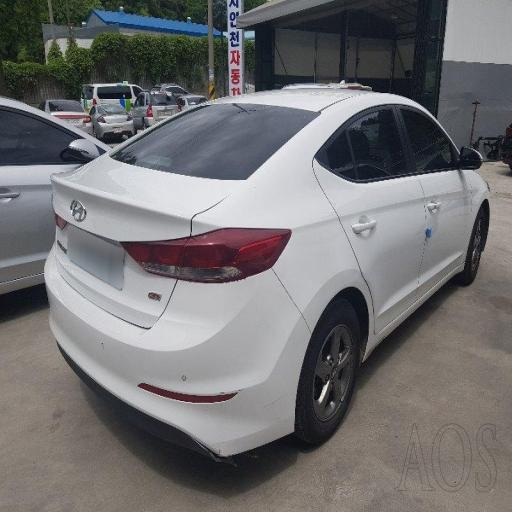scratch: (120, 194, 298, 335)
